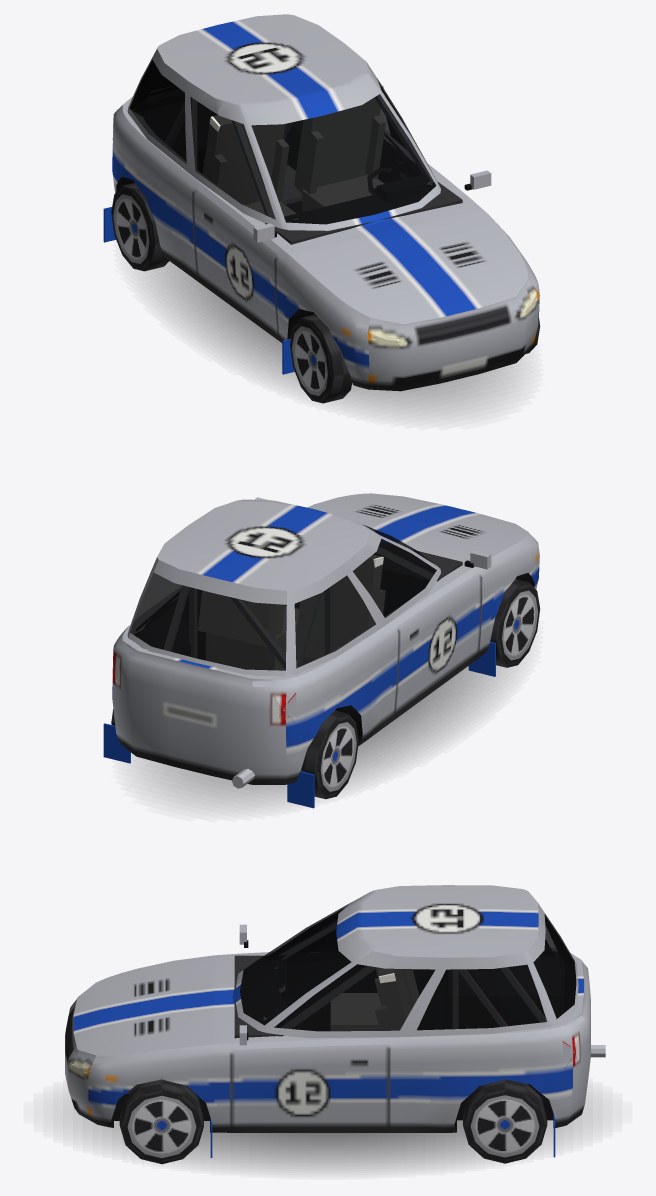
File: guri.glb
The picture shows the model from 3 angles, top to bottom: view 1: azimuth 30°, elevation 25°; view 2: azimuth 150°, elevation 25°; view 3: azimuth 270°, elevation 25°; orthographic projection. The views are drawn at different scales.
Parts seen in each view (by area): view 1: Carroceria, Interior, Capo_malha, Porta_D_malha, Sombra, Roda_DD, Roda_TD, Porta_E_malha, Tampa_malha, Farol; view 2: Carroceria, Tampa_malha, Interior, Sombra, Porta_D_malha, Capo_malha, Roda_TD, Roda_DD, Lanterna; view 3: Carroceria, Interior, Porta_E_malha, Sombra, Capo_malha, Roda_DE, Roda_TE, Tampa_malha, Porta_D_malha.
Boxes of the visible parts, x1,y1,x2,y2 form: Carroceria: [103, 14, 539, 391]; Interior: [132, 79, 462, 244]; Capo_malha: [298, 211, 536, 326]; Porta_D_malha: [193, 101, 282, 332]; Sombra: [142, 261, 518, 416]; Roda_DD: [290, 314, 352, 403]; Roda_TD: [111, 183, 168, 271]; Porta_E_malha: [367, 66, 491, 190]; Tampa_malha: [130, 60, 178, 108]; Farol: [365, 291, 538, 346]; Carroceria: [103, 496, 539, 808]; Tampa_malha: [121, 560, 286, 763]; Interior: [134, 542, 462, 669]; Sombra: [136, 665, 511, 807]; Porta_D_malha: [367, 531, 491, 710]; Capo_malha: [313, 493, 535, 557]; Roda_TD: [300, 710, 358, 799]; Roda_DD: [490, 579, 540, 667]; Lanterna: [112, 649, 296, 724]; Carroceria: [65, 885, 605, 1157]; Interior: [126, 920, 575, 1093]; Porta_E_malha: [231, 950, 388, 1124]; Sombra: [63, 1099, 592, 1170]; Capo_malha: [79, 958, 214, 1067]; Roda_DE: [119, 1079, 203, 1164]; Roda_TE: [463, 1079, 547, 1163]; Tampa_malha: [528, 903, 590, 1098]; Porta_D_malha: [239, 909, 342, 957].
Bounding box in the file's own units: 2.26 × 1.5 × 4.32.
Materials: 13 (5 with a texture image).
